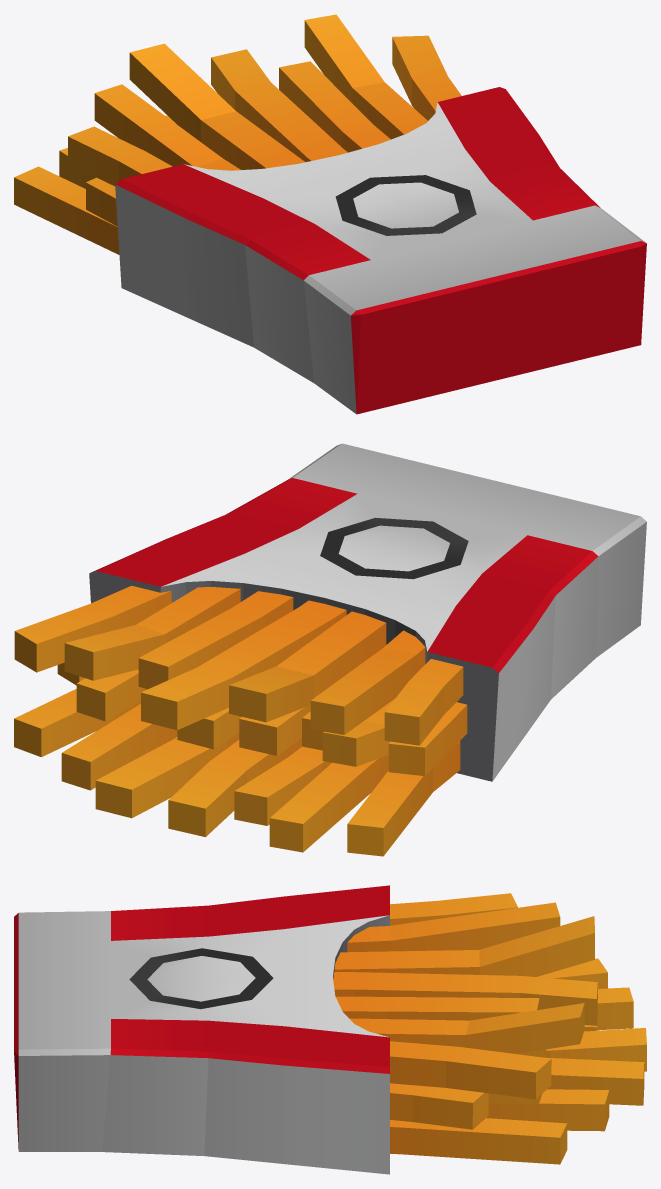
Rendered from Product Fries.fbx.
3 views of the same model, one above another, from view 1: azimuth 30°, elevation 25°; view 2: azimuth 150°, elevation 25°; view 3: azimuth 270°, elevation 25° (orthographic). The views are drawn at different scales.
Parts seen in each view (by area): view 1: Product_Fries; view 2: Product_Fries; view 3: Product_Fries.
Boxes of the visible parts, x1,y1,x2,y2 form: Product_Fries: [14, 14, 646, 414]; Product_Fries: [14, 443, 646, 856]; Product_Fries: [14, 885, 646, 1174].
Size of the model in its own units: 107 by 34.67 by 152.
